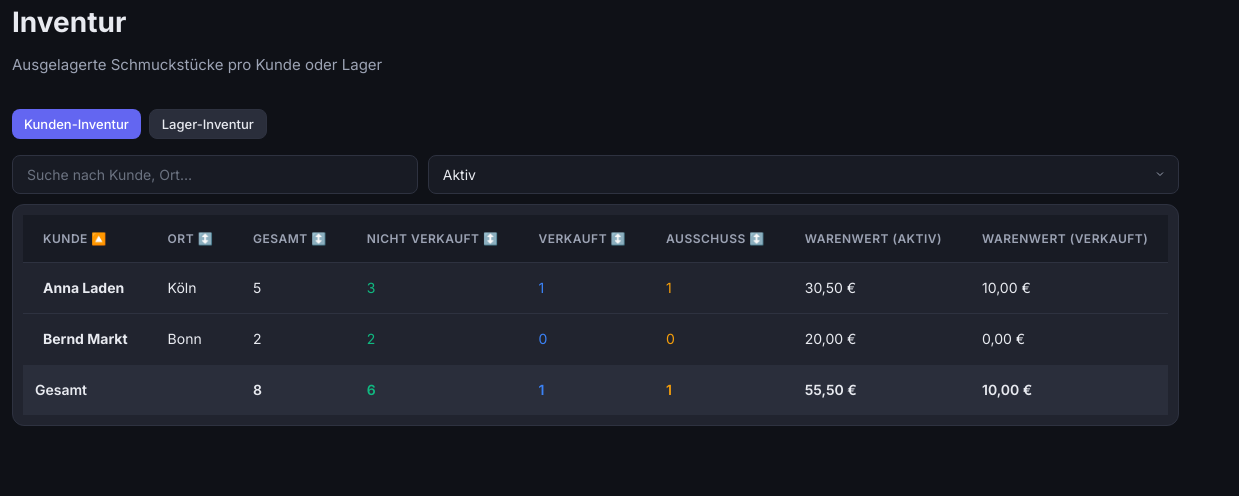
Test case: Kunden-Inventur (Abgleich) › zeigt alle Kunden inklusive Inaktiver, wenn der Statusfilter geleert wird
This screenshot has width=1239, height=496.
Check: the text "Anna Laden" is shown, box [43,279,124,296]
Select "Alle Status" in the dropdown showing "Aktiv" at (803, 174), box [428,155,1179,194]
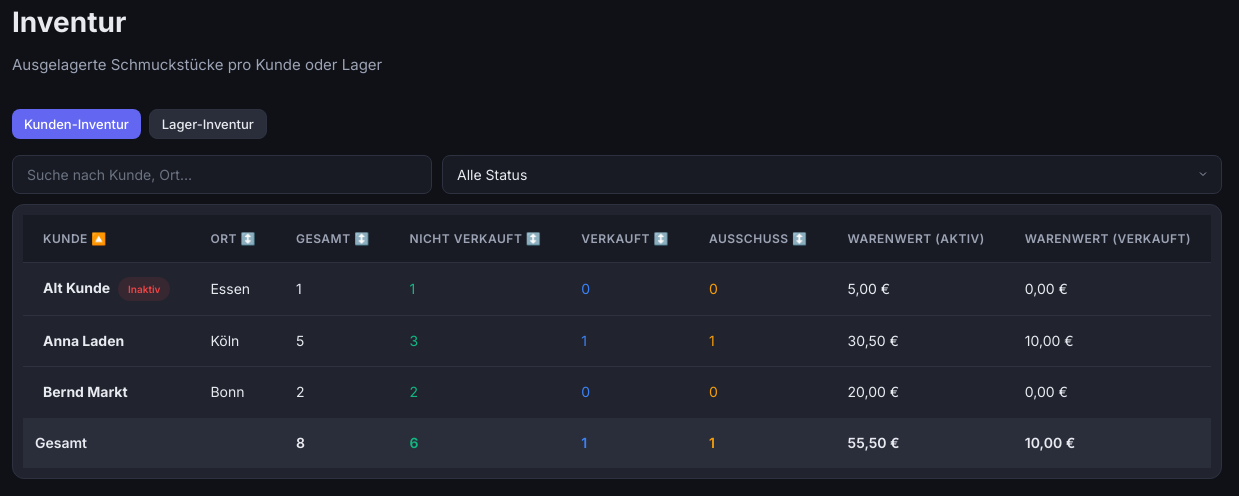
Check: the text "Alt Kunde" is shown, box [43,279,110,296]
Check: the text "Inaktiv" is shown, box [118,277,170,301]
